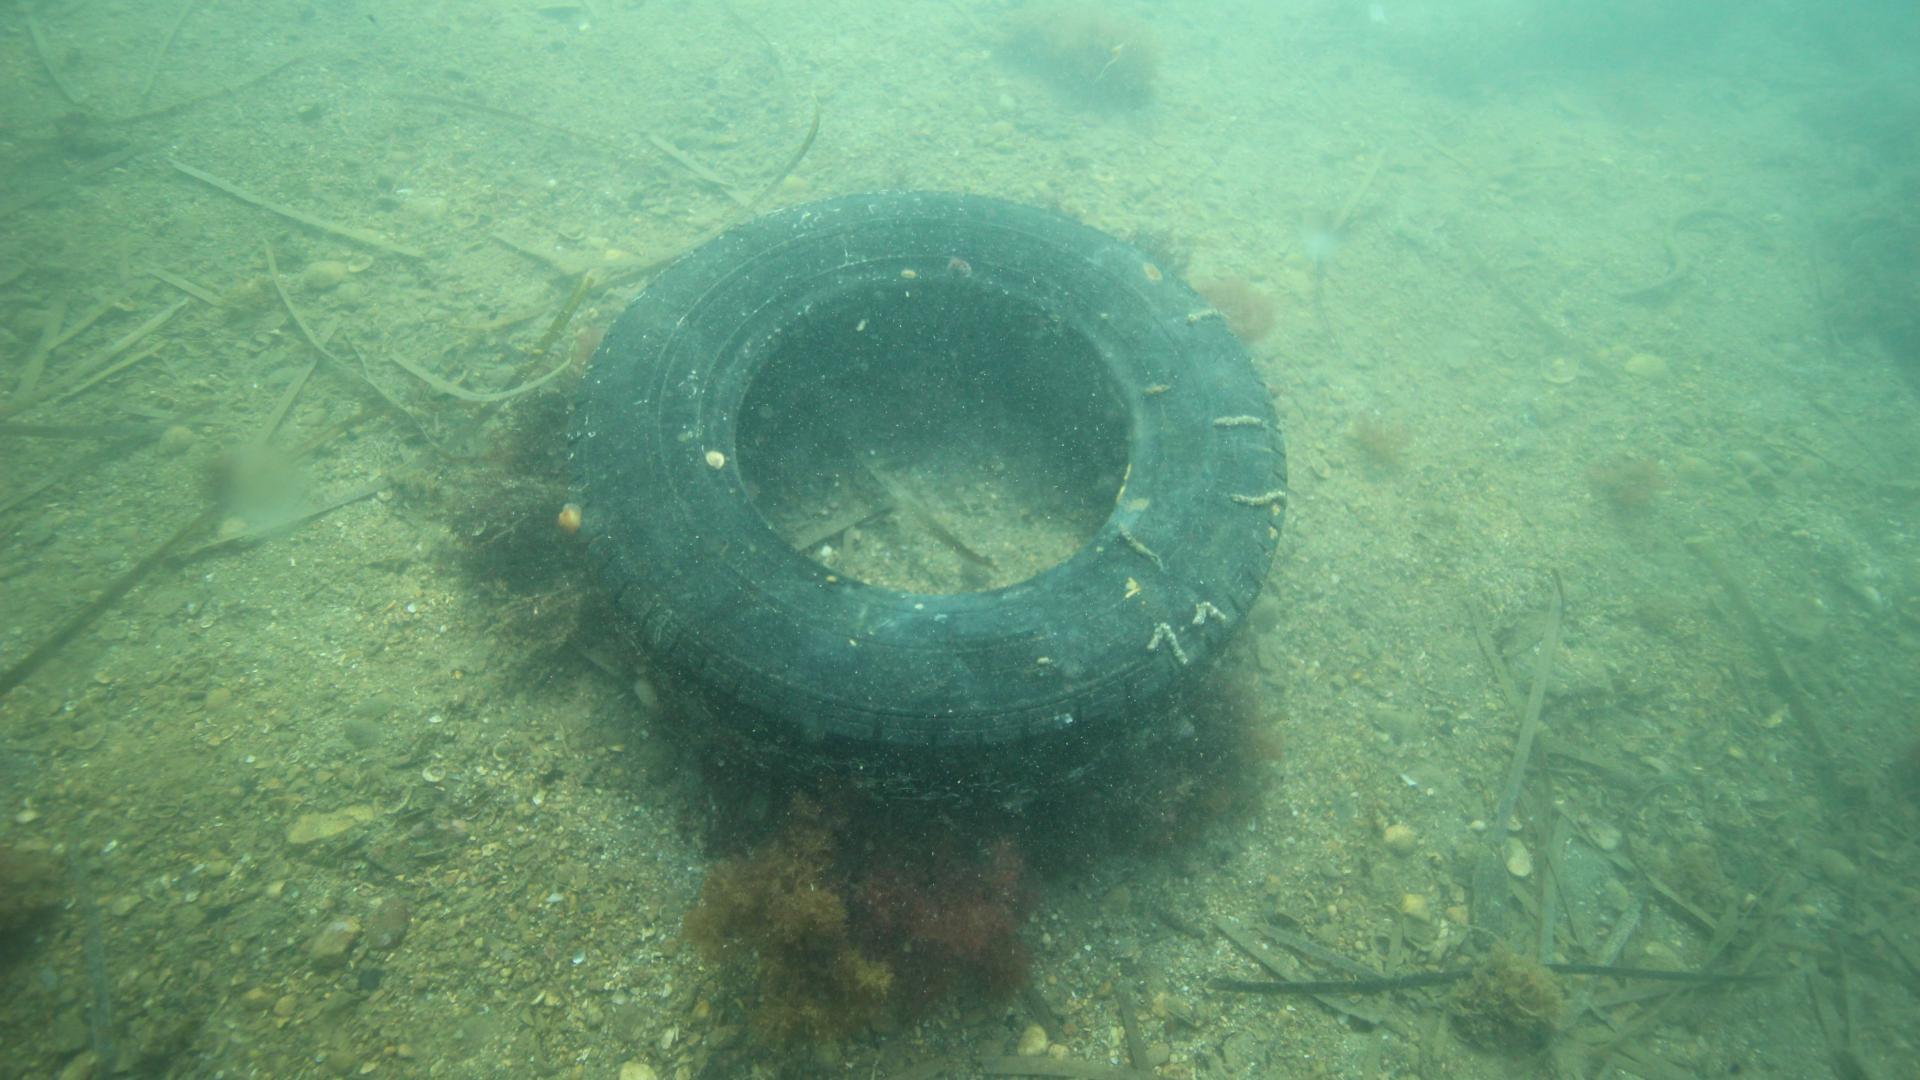tire: (578, 185, 1288, 753)
